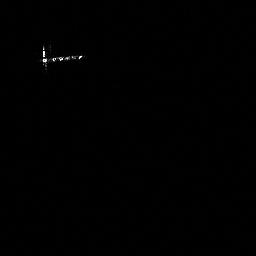ship: (38, 43, 84, 70)
